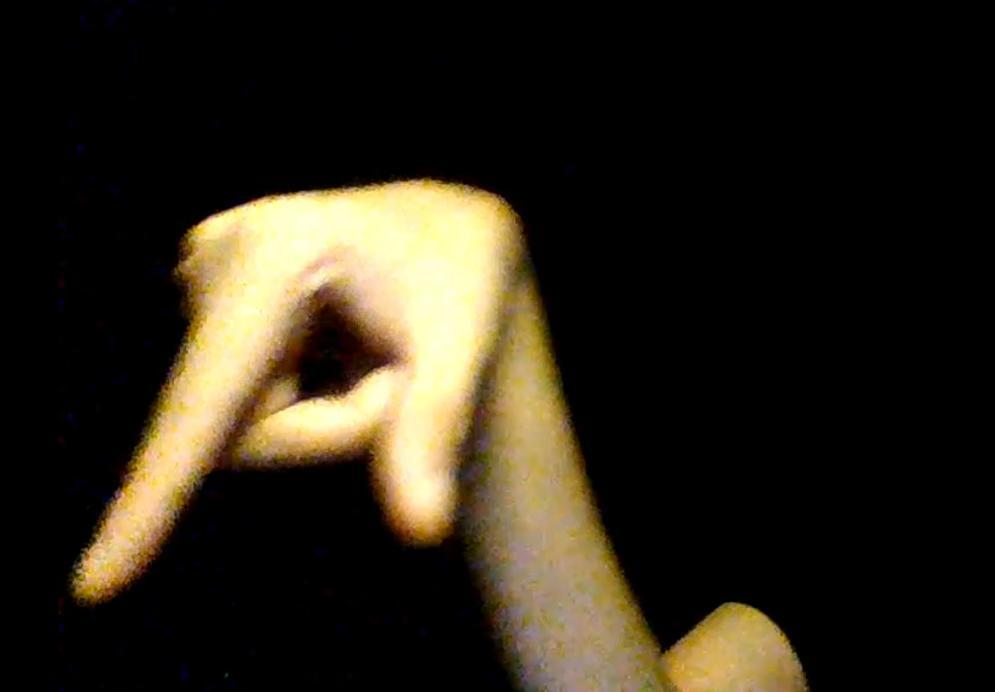q: (74, 177, 516, 616)
